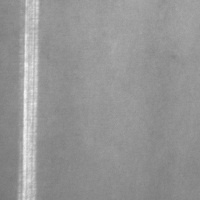scratches: (16, 0, 44, 199)
